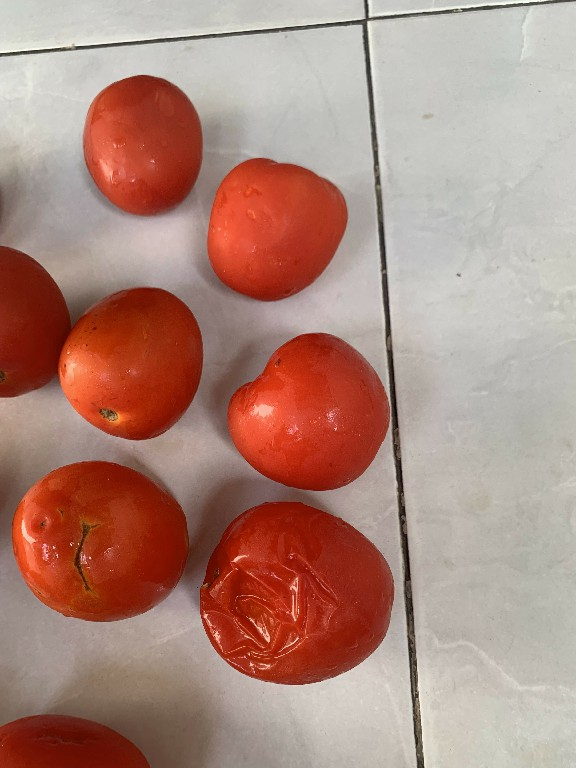NG: (184, 499, 397, 682), (0, 459, 188, 629)
OK: (228, 325, 397, 497), (60, 284, 206, 448), (218, 144, 356, 301), (76, 65, 206, 217), (0, 240, 77, 397)
